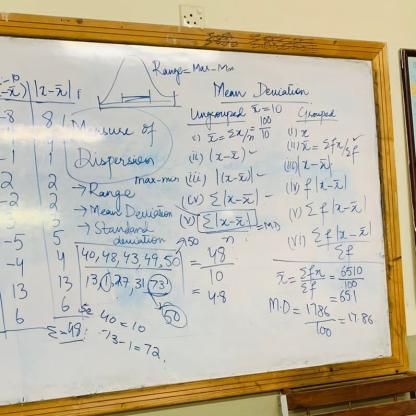Handwritten text: (69, 142, 158, 176), (64, 116, 158, 143), (209, 80, 320, 101), (183, 105, 253, 129), (86, 203, 180, 220), (85, 179, 143, 204), (147, 58, 184, 88), (91, 221, 162, 234), (292, 108, 336, 124), (111, 234, 166, 246), (135, 175, 180, 187)
Whiteboard: (0, 19, 404, 410)
